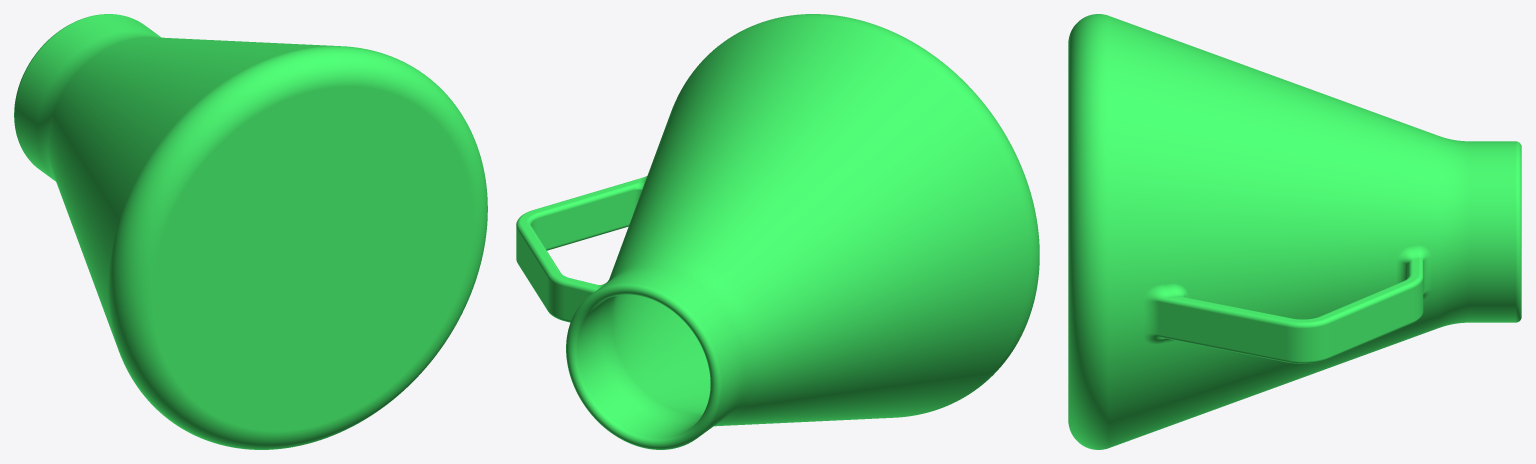
3 views of the same model, side by side, from view 1: azimuth 30°, elevation 25°; view 2: azimuth 150°, elevation 25°; view 3: azimuth 270°, elevation 25° (orthographic).
Visible parts, largest first — view 1: 圆角5; view 2: 圆角5; view 3: 圆角5.
Boxes of the visible parts, <box> form: 圆角5: <box>14,14,487,449</box>; 圆角5: <box>516,14,1039,449</box>; 圆角5: <box>1068,14,1521,449</box>.
Size of the model in its own units: 12.64 by 11.36 by 11.81.
